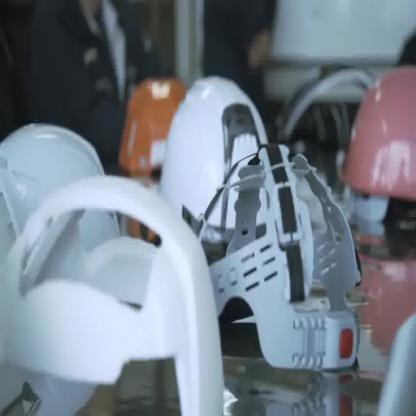helmet: (157, 74, 268, 240), (0, 118, 120, 254), (341, 63, 415, 202), (118, 78, 186, 174)
